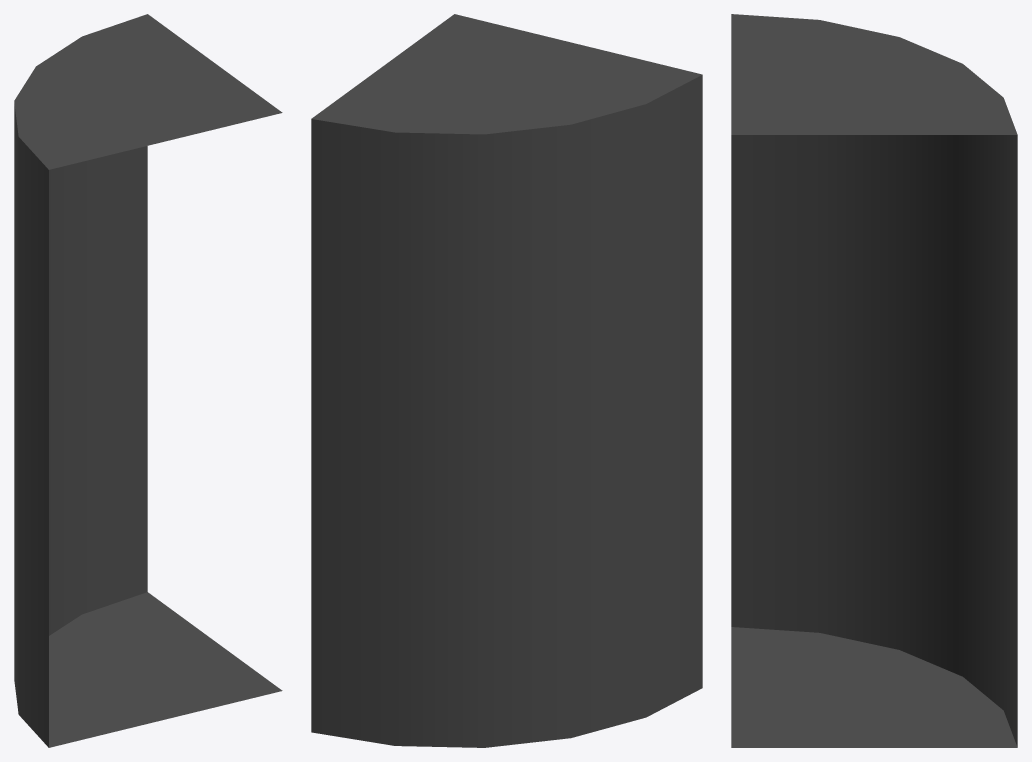
Rendered from SM_cable_right_06.fbx.
The picture shows the model from 3 angles, left to right: view 1: azimuth 30°, elevation 25°; view 2: azimuth 150°, elevation 25°; view 3: azimuth 270°, elevation 25°; orthographic projection. The views are drawn at different scales.
Visible parts, largest first — view 1: SM_cable_right_06; view 2: SM_cable_right_06; view 3: SM_cable_right_06.
Part boxes in pixels (left/top/right/bottom): SM_cable_right_06: left=14, top=14, right=282, bottom=747; SM_cable_right_06: left=311, top=14, right=702, bottom=747; SM_cable_right_06: left=731, top=14, right=1017, bottom=747.
Bounding box in the file's own units: 10.24 × 24.19 × 10.24.
1 material, 1 textured.
